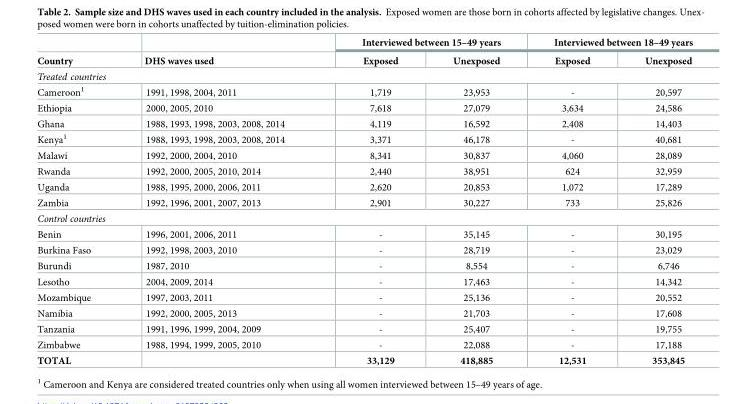table: (36, 37, 692, 365)
table column: (116, 37, 322, 365), (322, 37, 424, 365), (424, 37, 526, 365), (526, 37, 616, 365), (36, 37, 116, 365), (616, 37, 692, 365)
table column header: (36, 37, 692, 67)
table projected row header: (36, 209, 692, 226), (36, 67, 692, 83)
table row: (36, 83, 692, 100), (36, 130, 692, 147), (36, 209, 692, 226), (36, 51, 692, 67), (36, 67, 692, 83), (36, 147, 692, 163), (36, 163, 692, 179), (36, 226, 692, 242), (36, 257, 692, 273), (36, 273, 692, 289), (36, 289, 692, 305), (36, 305, 692, 321), (36, 336, 692, 352), (36, 100, 692, 115), (36, 115, 692, 130), (36, 179, 692, 194), (36, 194, 692, 209), (36, 242, 692, 257), (36, 321, 692, 336), (36, 37, 692, 51), (36, 352, 692, 365)
table spanning cell: (116, 37, 322, 67), (322, 37, 526, 51), (36, 37, 116, 67), (526, 37, 692, 51)
